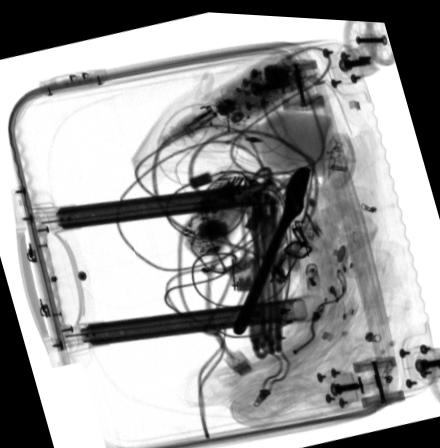Wrench: (233, 161, 312, 331)
